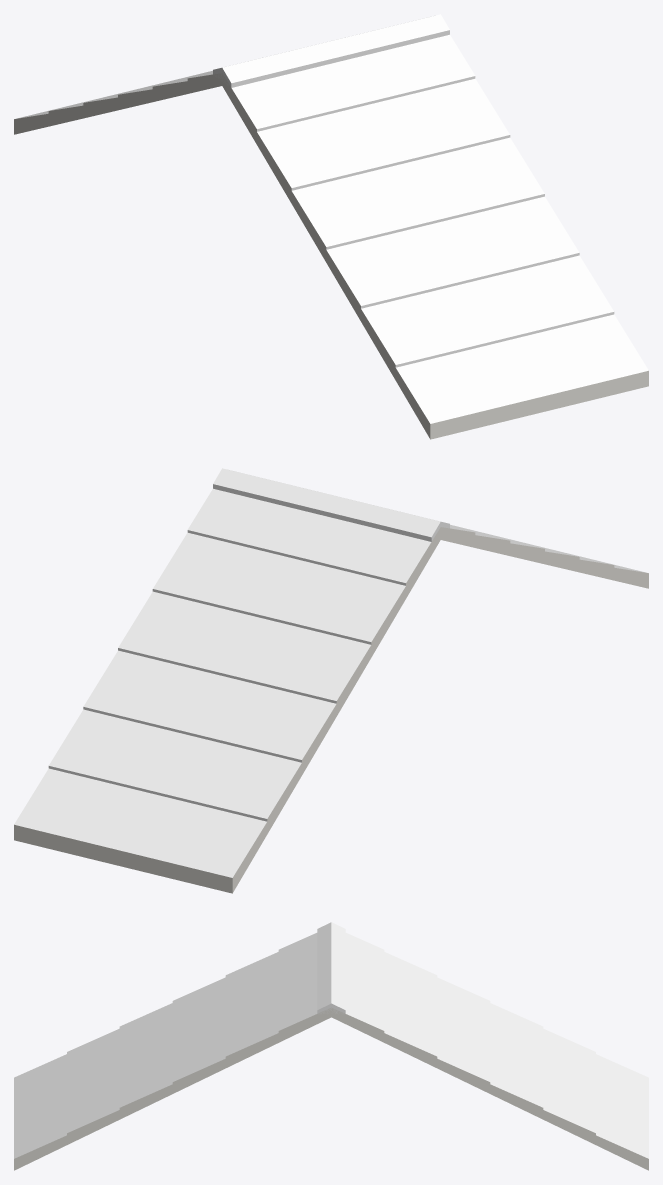
Rendered from house_roof_9.glb.
3 renders of one model, top to bottom at view 1: azimuth 30°, elevation 25°; view 2: azimuth 150°, elevation 25°; view 3: azimuth 270°, elevation 25°, orthographic. The views are drawn at different scales.
Parts seen in each view (by area): view 1: house_roof_9__mesh; view 2: house_roof_9__mesh; view 3: house_roof_9__mesh.
Part boxes in pixels (bbox=[...]): house_roof_9__mesh: bbox=[14, 14, 648, 439]; house_roof_9__mesh: bbox=[14, 468, 648, 893]; house_roof_9__mesh: bbox=[14, 922, 648, 1170].
Size of what is drawn, in the model's own units: 3 by 2.88 by 9.9.
1 material, 1 textured.
